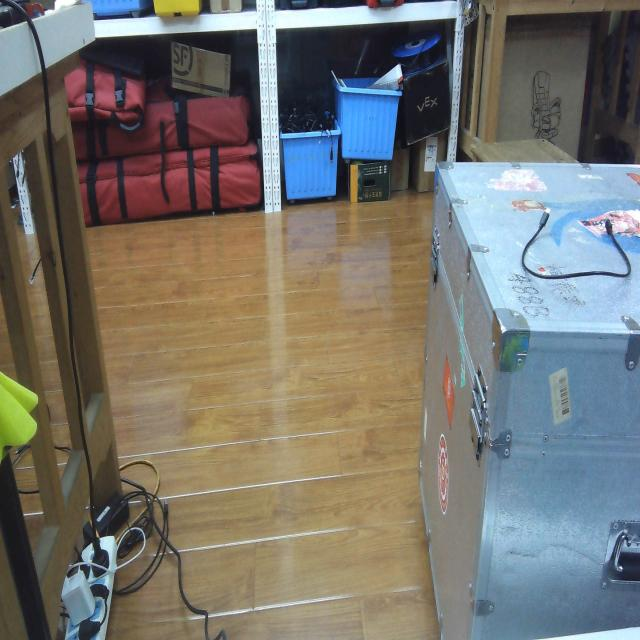Yellow-Stake-Head: (0, 370, 38, 465)
